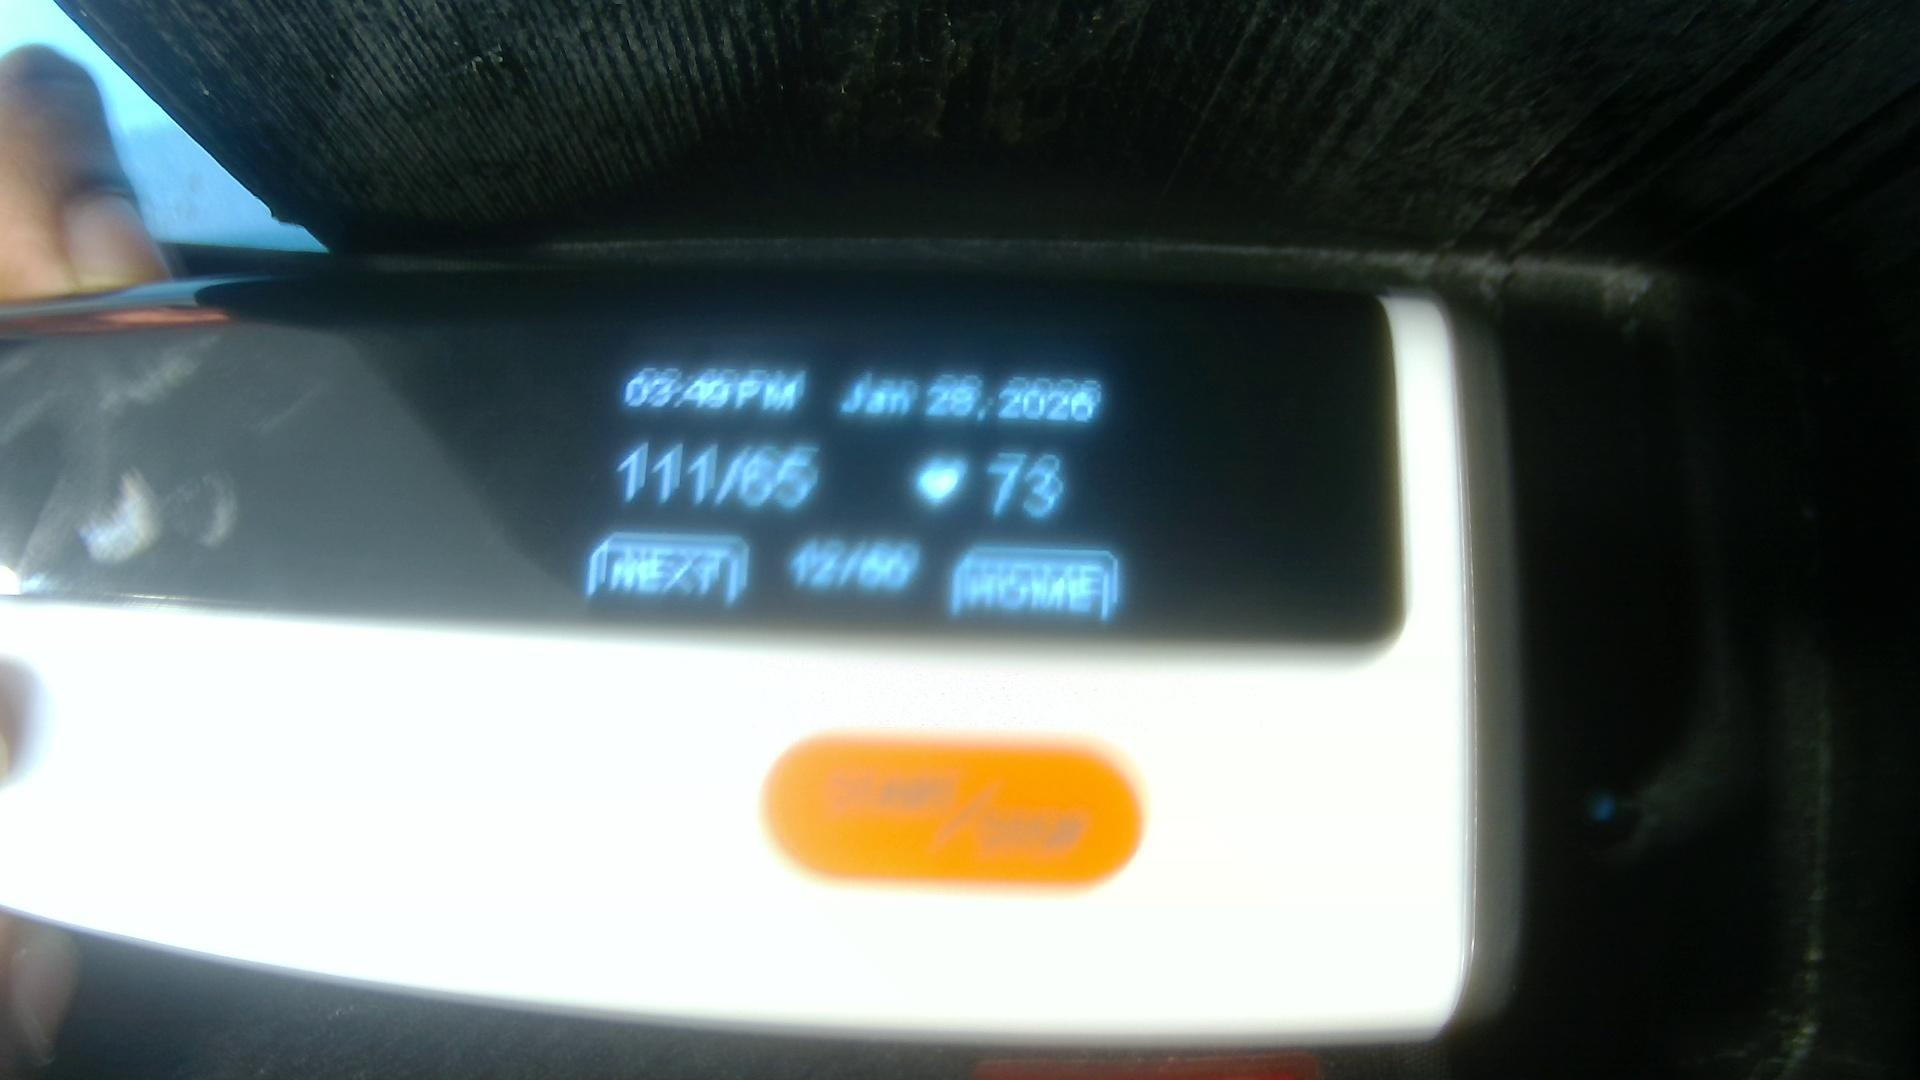DISPLAY: (109, 295, 1378, 636)
